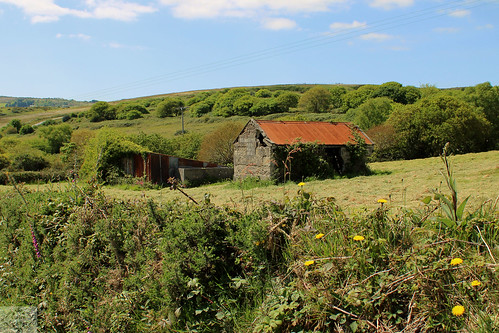building: (230, 122, 370, 188), (110, 153, 231, 192)
sky: (1, 1, 491, 88)
vegetation: (1, 171, 487, 333), (1, 95, 494, 153)
